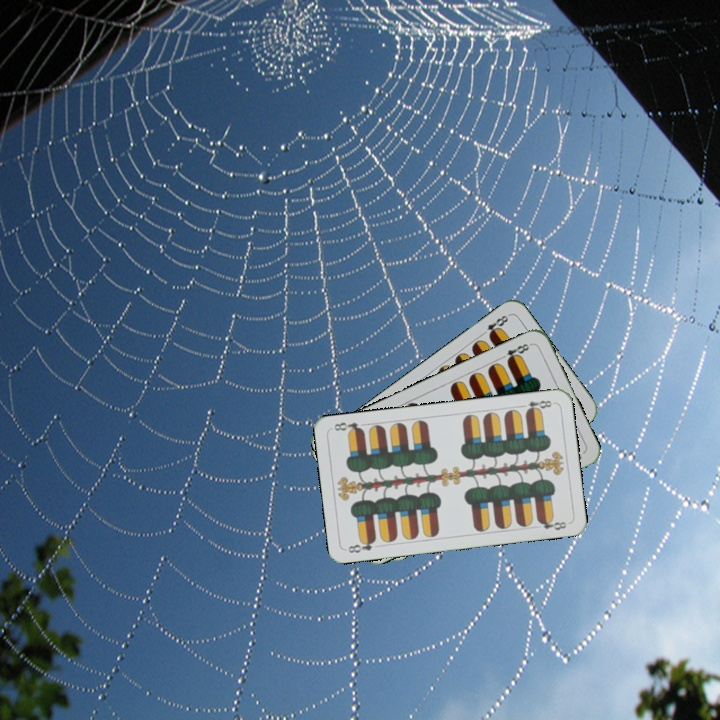E8: (476, 311, 512, 340), (496, 339, 534, 365), (344, 535, 379, 556), (516, 396, 554, 415)
